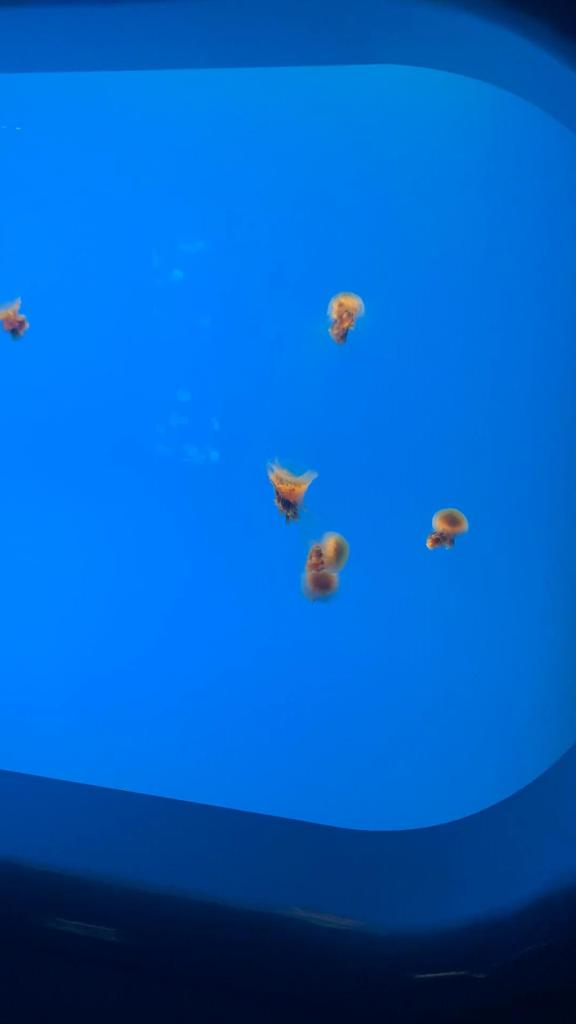jellyfish: (262, 455, 318, 525), (301, 527, 350, 603), (322, 292, 364, 348), (426, 504, 470, 552), (0, 292, 34, 344)
